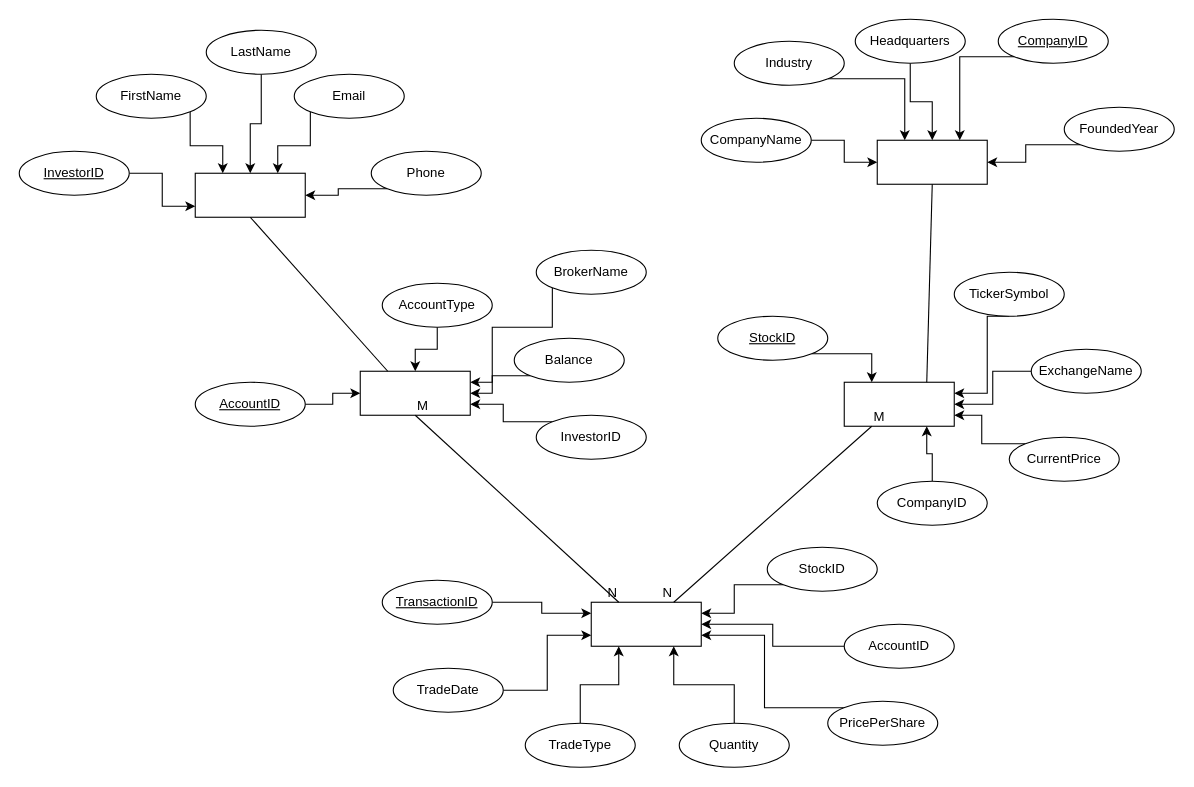
Image size: 1194x787. Some labels were removed from this diagram. The shapes that lost their labels are listed below. From the top down, each one's box as (x1, y1, x2, y2) in pixels, then its label:
(876, 139, 987, 184): Company
(194, 172, 305, 217): Investor
(359, 370, 470, 415): BrokerageAccount
(843, 381, 954, 426): Stock
(590, 601, 701, 646): TradeTransaction
